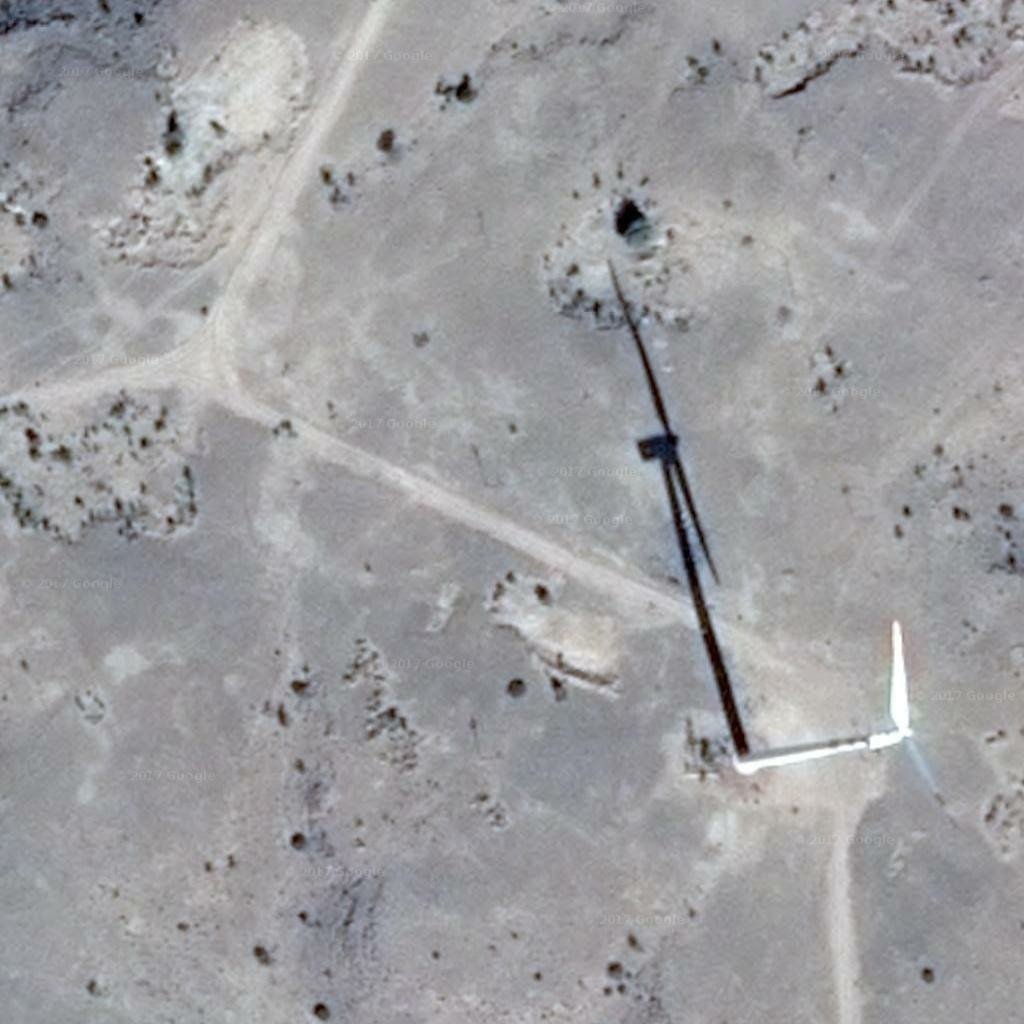Windmill: (592, 257, 771, 735)
